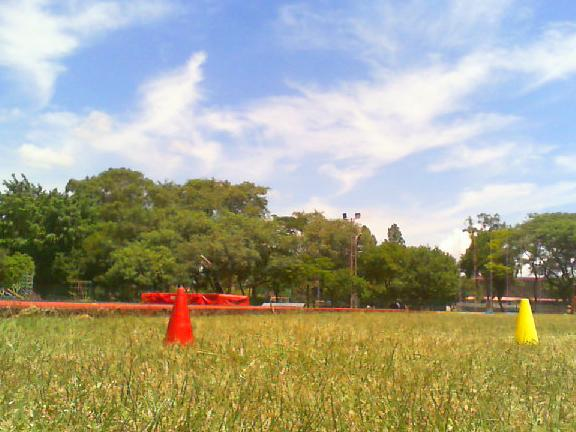0 cone: (164, 289, 192, 343), (514, 299, 538, 344)
